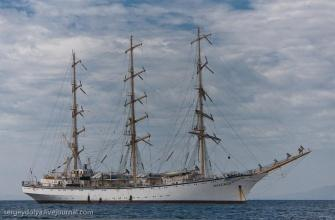fanchuan: (18, 34, 310, 205)
